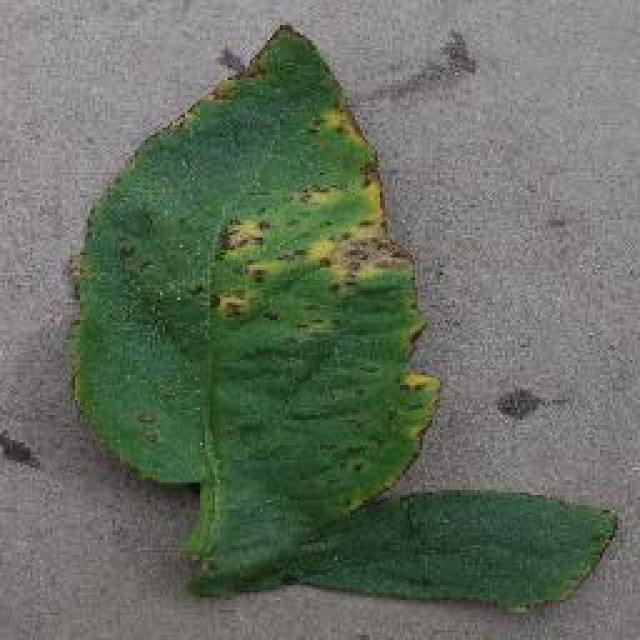Tomato bacterial spot leaf: (64, 16, 448, 562)
